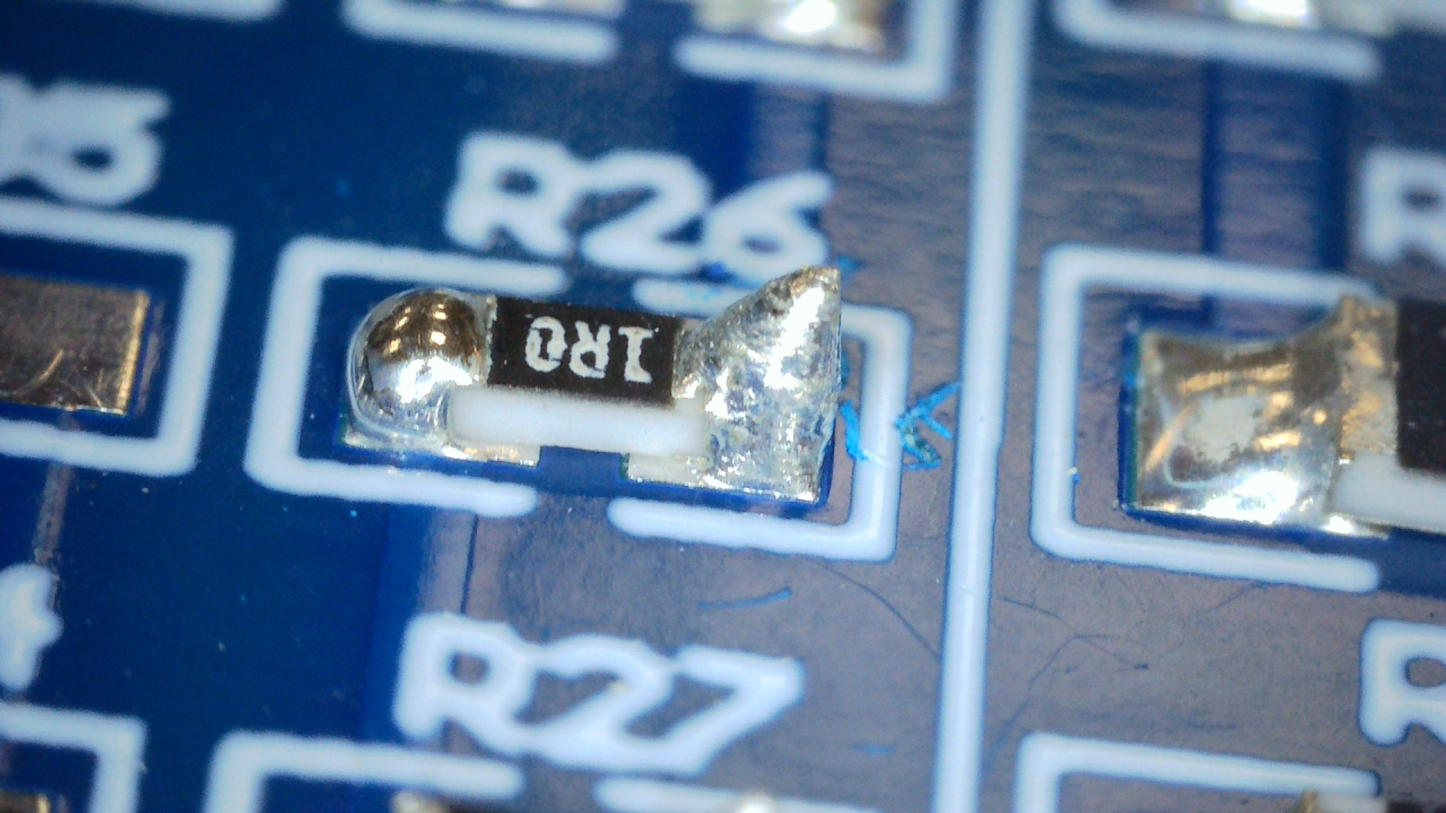NG: (677, 268, 841, 499), (347, 289, 492, 441)
